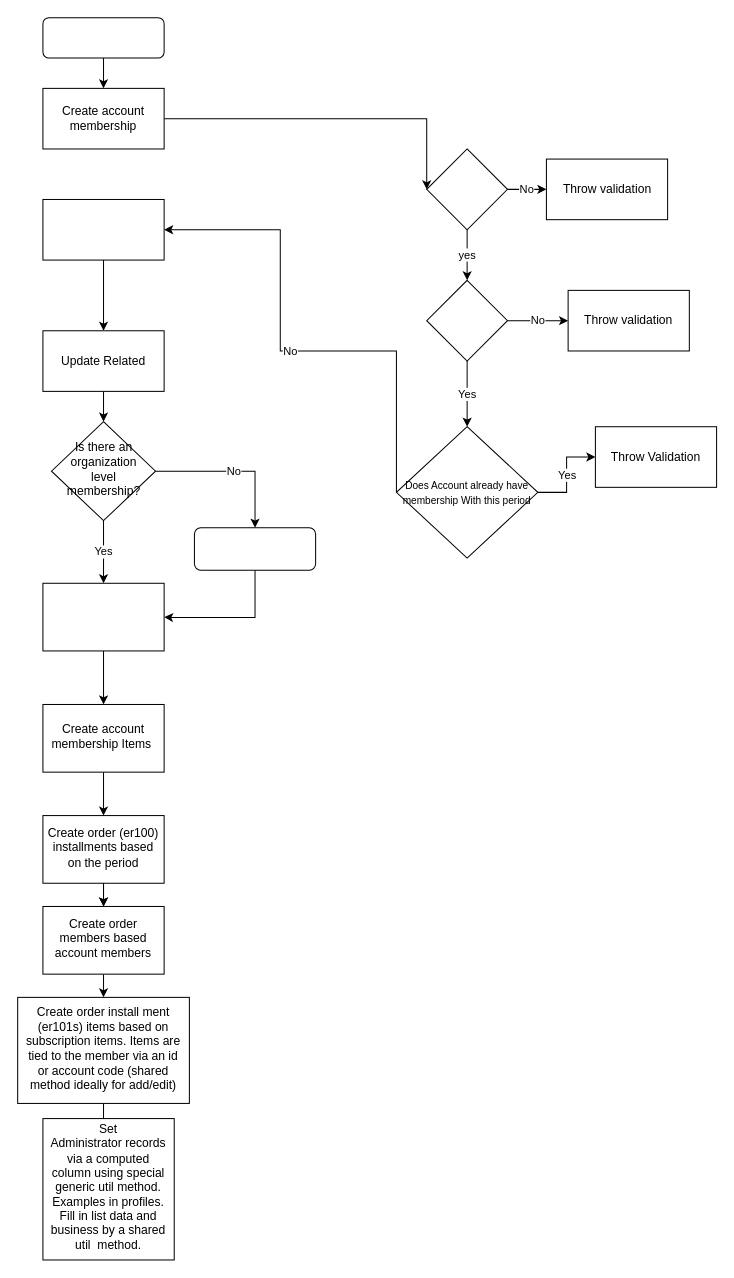
The diagram is 734 pixels wide and 1278 high, and some of its shapes have lost their labels. Each missing label, with the centre of its shape:
Add Individual Membership: pixel 103 37
Are all required fields filled in?: pixel 467 189
Create Membership Account Members: pixel 103 616
Create Organization Level Membership: pixel 254 548
Is membership start date within the period: pixel 467 320
Process: pixel 103 229
